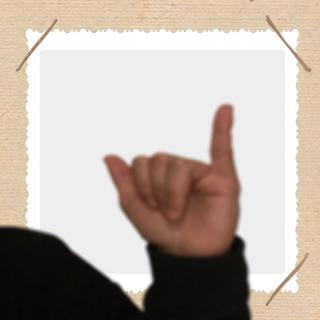HAVE: (90, 102, 252, 261)
